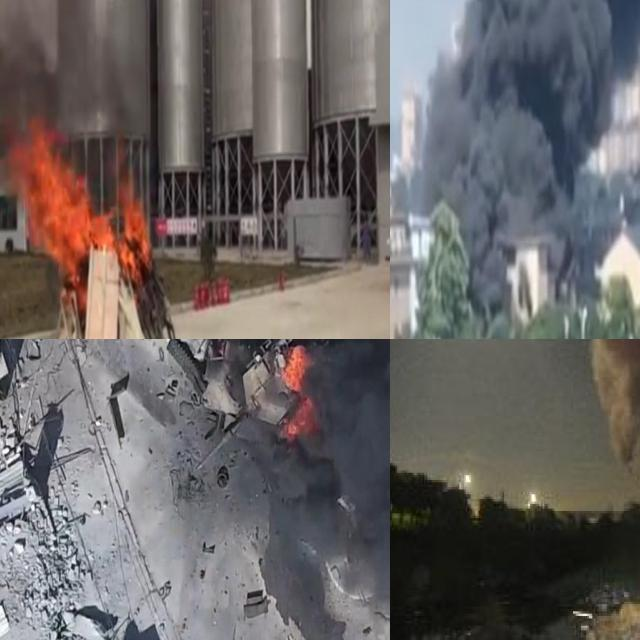fire: (8, 123, 153, 282), (278, 342, 317, 440)
smoke: (419, 0, 640, 228), (304, 339, 390, 640), (0, 0, 130, 166)
